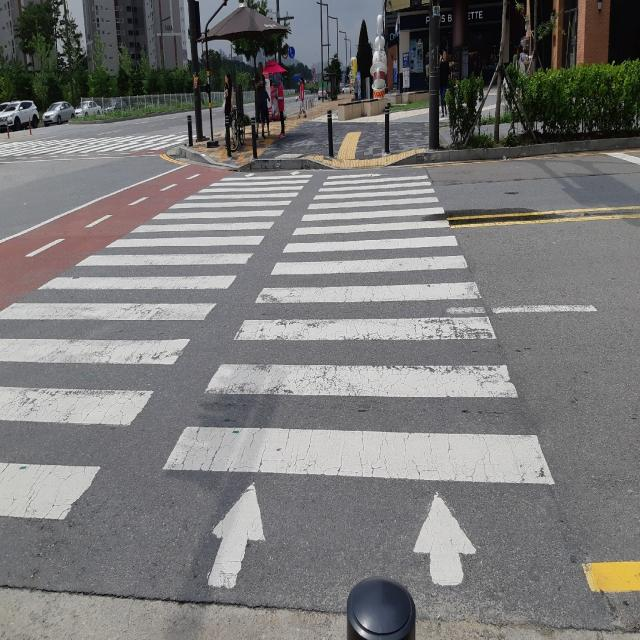횡단보도: (0, 170, 556, 588)
